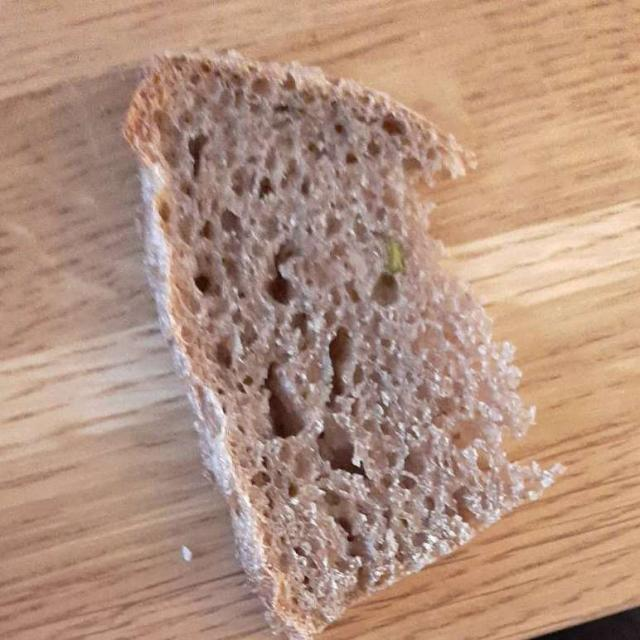bread-wholemeal: (130, 66, 536, 626)
